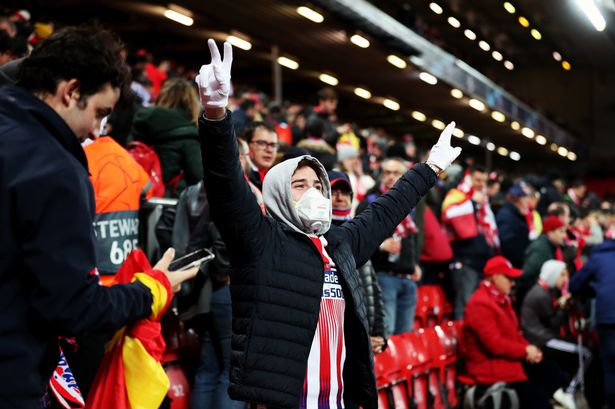with_mask: (290, 172, 322, 225)
without_mask: (254, 129, 275, 163)
